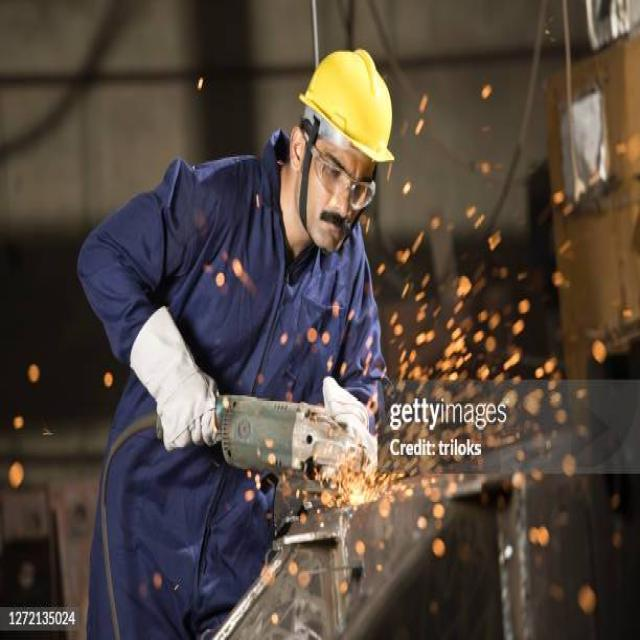without_helmet: (289, 122, 377, 254)
